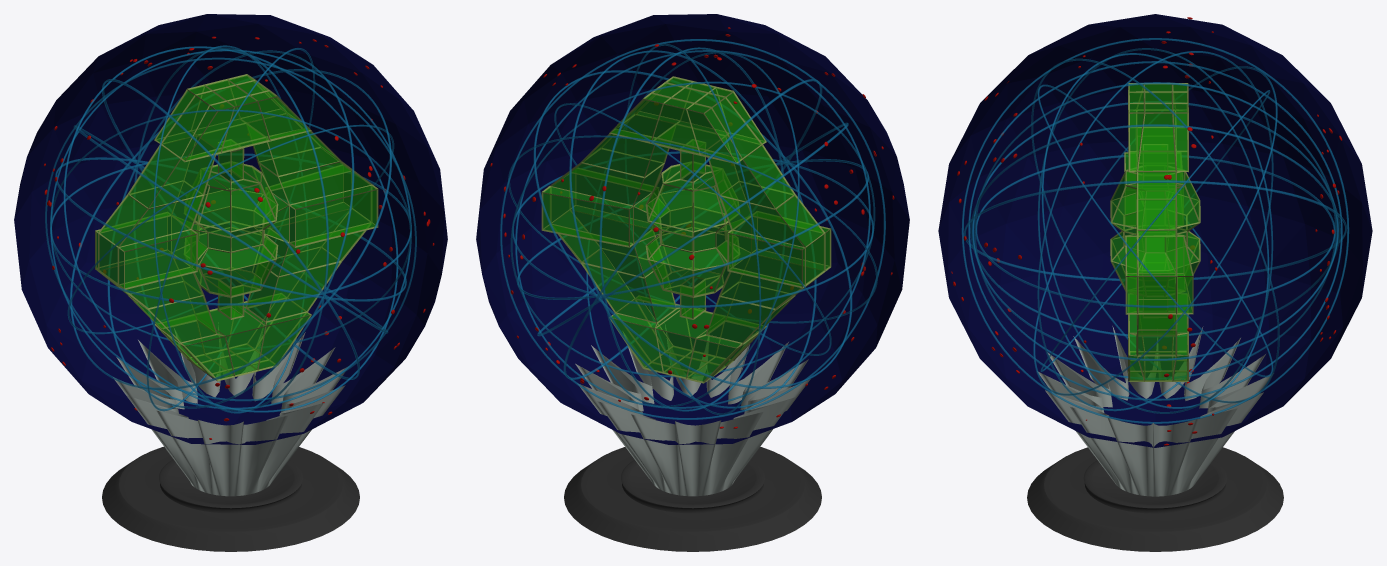
Rendered from holo.obj.
3 renders of one model, left to right at view 1: azimuth 30°, elevation 25°; view 2: azimuth 150°, elevation 25°; view 3: azimuth 270°, elevation 25°, orthographic.
Visible parts, largest first — view 1: Icosphere, Cube_Cube.001, 3d-Hologramm_Circle.024, Sphere.001, Torus.021_Torus.013, Torus.000_Torus.013, Torus.003_Torus.013, Torus.002_Torus.013, Torus.004_Torus.013, Torus.022_Torus.013, Torus.001_Torus.013; view 2: Icosphere, Cube_Cube.001, 3d-Hologramm_Circle.024, Sphere.001, Torus.002_Torus.013, Torus.022_Torus.013, Torus.021_Torus.013, Torus.001_Torus.013, Torus.004_Torus.013, Torus.000_Torus.013, Torus.003_Torus.013; view 3: Icosphere, Cube_Cube.001, 3d-Hologramm_Circle.024, Sphere.001, Torus.003_Torus.013, Torus.022_Torus.013, Torus.001_Torus.013, Torus.004_Torus.013, Torus.021_Torus.013, Torus.002_Torus.013, Torus.000_Torus.013.
Part boxes in pixels (bbox=[...]): Icosphere: bbox=[14, 14, 447, 444]; Cube_Cube.001: bbox=[95, 74, 378, 381]; 3d-Hologramm_Circle.024: bbox=[102, 446, 359, 551]; Sphere.001: bbox=[113, 327, 348, 496]; Torus.021_Torus.013: bbox=[44, 46, 430, 421]; Torus.000_Torus.013: bbox=[49, 37, 411, 413]; Torus.003_Torus.013: bbox=[44, 45, 425, 439]; Torus.002_Torus.013: bbox=[60, 39, 434, 410]; Torus.004_Torus.013: bbox=[50, 36, 425, 406]; Torus.022_Torus.013: bbox=[47, 48, 429, 414]; Torus.001_Torus.013: bbox=[54, 45, 406, 413]; Icosphere: bbox=[476, 14, 909, 444]; Cube_Cube.001: bbox=[541, 76, 831, 383]; 3d-Hologramm_Circle.024: bbox=[564, 447, 821, 551]; Sphere.001: bbox=[575, 325, 810, 496]; Torus.002_Torus.013: bbox=[510, 34, 870, 417]; Torus.022_Torus.013: bbox=[500, 39, 885, 419]; Torus.021_Torus.013: bbox=[490, 70, 883, 389]; Torus.001_Torus.013: bbox=[508, 27, 894, 428]; Torus.004_Torus.013: bbox=[503, 51, 875, 406]; Torus.000_Torus.013: bbox=[504, 44, 892, 428]; Torus.003_Torus.013: bbox=[503, 44, 864, 415]; Icosphere: bbox=[938, 14, 1372, 447]; Cube_Cube.001: bbox=[1110, 83, 1200, 381]; 3d-Hologramm_Circle.024: bbox=[1027, 447, 1283, 551]; Sphere.001: bbox=[1037, 326, 1273, 496]; Torus.003_Torus.013: bbox=[957, 31, 1342, 425]; Torus.022_Torus.013: bbox=[951, 17, 1349, 445]; Torus.001_Torus.013: bbox=[961, 48, 1338, 415]; Torus.004_Torus.013: bbox=[964, 52, 1335, 420]; Torus.021_Torus.013: bbox=[953, 66, 1346, 433]; Torus.002_Torus.013: bbox=[958, 31, 1340, 377]; Torus.000_Torus.013: bbox=[963, 65, 1336, 431].
Size of the model in its own units: 28.17 by 33.17 by 28.17.
